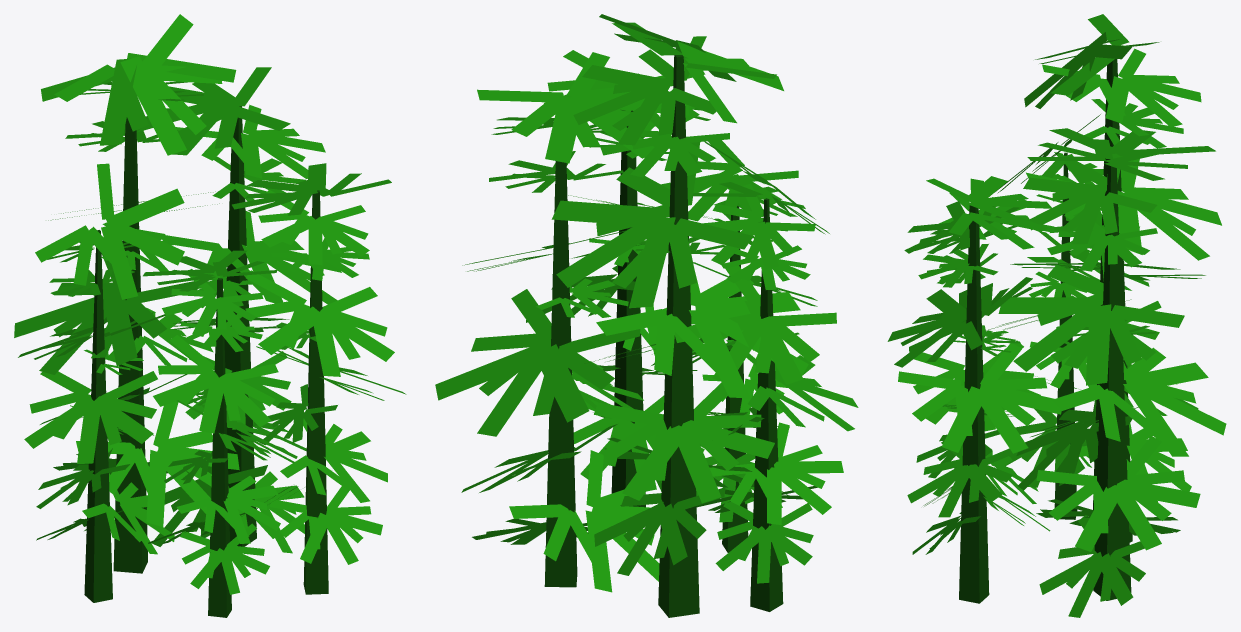
Rendered from BlackBamboo.glb.
The picture shows the model from 3 angles, left to right: view 1: azimuth 30°, elevation 25°; view 2: azimuth 150°, elevation 25°; view 3: azimuth 270°, elevation 25°; orthographic projection. The views are drawn at different scales.
Parts seen in each view (by area): view 1: BlackBamboo; view 2: BlackBamboo; view 3: BlackBamboo.
Boxes of the visible parts, x1,y1,x2,y2 form: BlackBamboo: (14, 14, 406, 617); BlackBamboo: (435, 14, 858, 617); BlackBamboo: (887, 14, 1226, 617).
Bounding box in the file's own units: 7.06 × 10.85 × 6.37.
